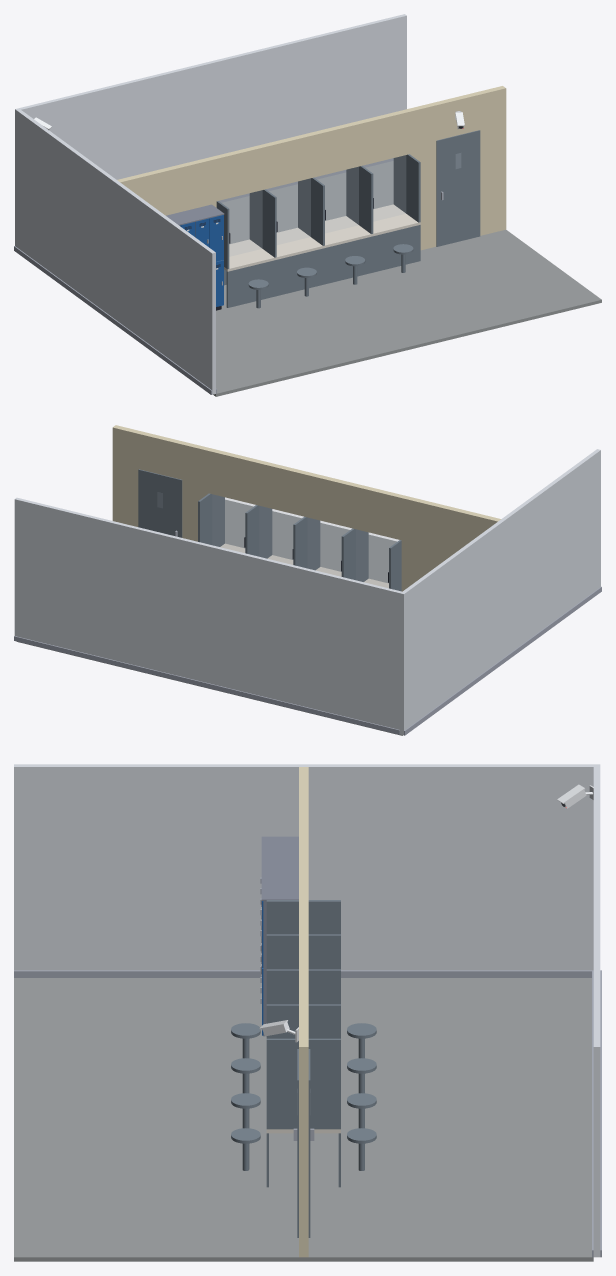
File: prs-009.glb
The picture shows the model from 3 angles, top to bottom: view 1: azimuth 30°, elevation 25°; view 2: azimuth 150°, elevation 25°; view 3: azimuth 270°, elevation 25°; orthographic projection. The views are drawn at different scales.
Parts seen in each view (by area): view 1: wall, prison_floor, block_wall, prison_steel, glass_clear, laminate, skirting, locker_blue, locker_grey; view 2: wall, block_wall, prison_steel, glass_clear, prison_floor, skirting, laminate; view 3: prison_floor, wall, prison_steel, skirting, block_wall, locker_grey, white.
Boxes of the visible parts, x1,y1,x2,y2 form: wall: [15, 14, 406, 394]; prison_floor: [213, 161, 601, 396]; block_wall: [117, 86, 506, 250]; prison_steel: [216, 130, 480, 308]; glass_clear: [220, 153, 460, 255]; laminate: [224, 204, 420, 271]; skirting: [14, 158, 393, 394]; locker_blue: [180, 215, 223, 306]; locker_grey: [166, 204, 224, 261]; wall: [14, 449, 600, 735]; block_wall: [112, 425, 500, 591]; prison_steel: [138, 469, 401, 591]; glass_clear: [158, 492, 398, 587]; prison_floor: [17, 499, 402, 735]; skirting: [14, 586, 601, 735]; laminate: [220, 543, 388, 588]; prison_floor: [14, 978, 593, 1261]; wall: [14, 764, 600, 1257]; prison_steel: [231, 900, 376, 1237]; skirting: [14, 970, 601, 1257]; block_wall: [299, 767, 308, 1257]; locker_grey: [261, 836, 298, 1036]; white: [259, 784, 593, 1042].
Bounding box in the file's own units: 8.1 × 2.86 × 7.1.
